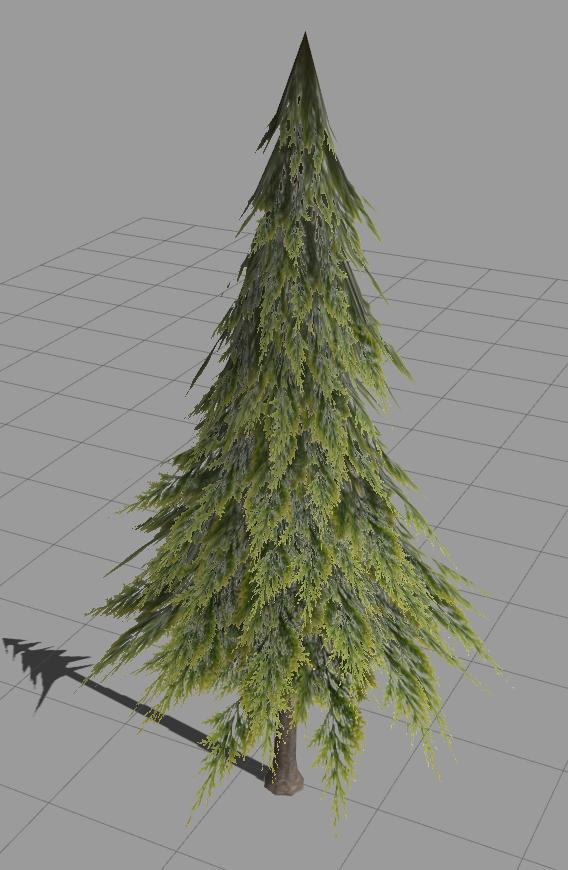tree_gazebo: (93, 37, 488, 818)
